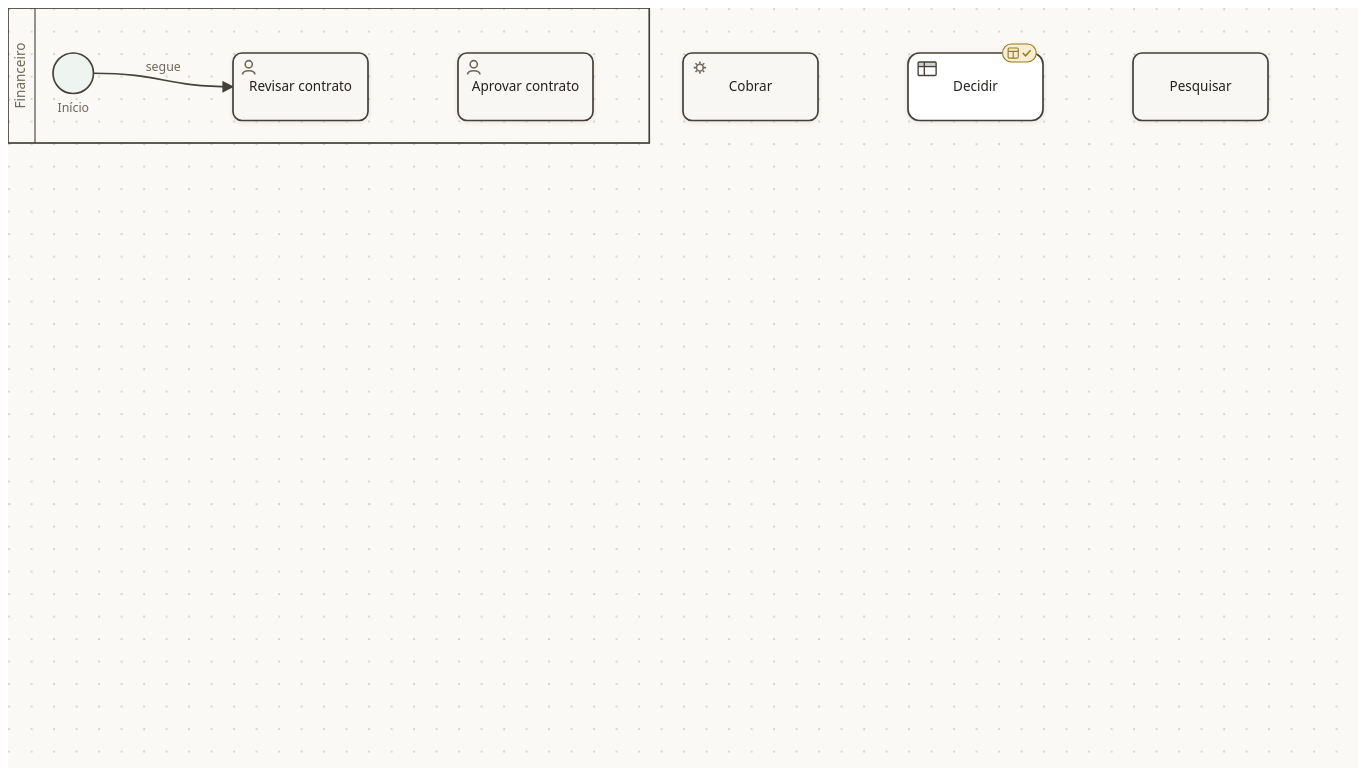
Test case: search — spec 1c refinements (U-4) › renders the result list with glyph, lane and type per row
Press f
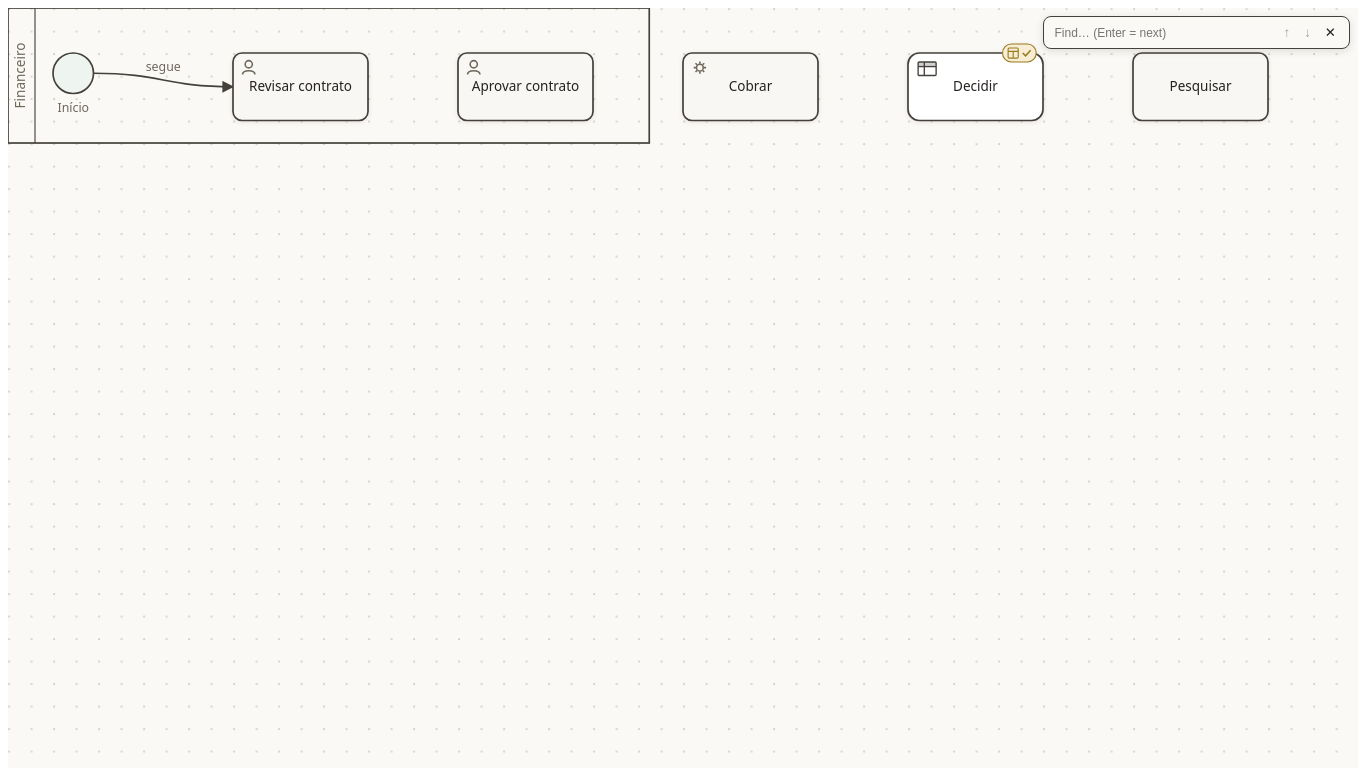
Type "cobrar" into the field with placeholder "Find… (Enter = next)". click: (1144, 32)
box: [1052, 24, 1236, 40]
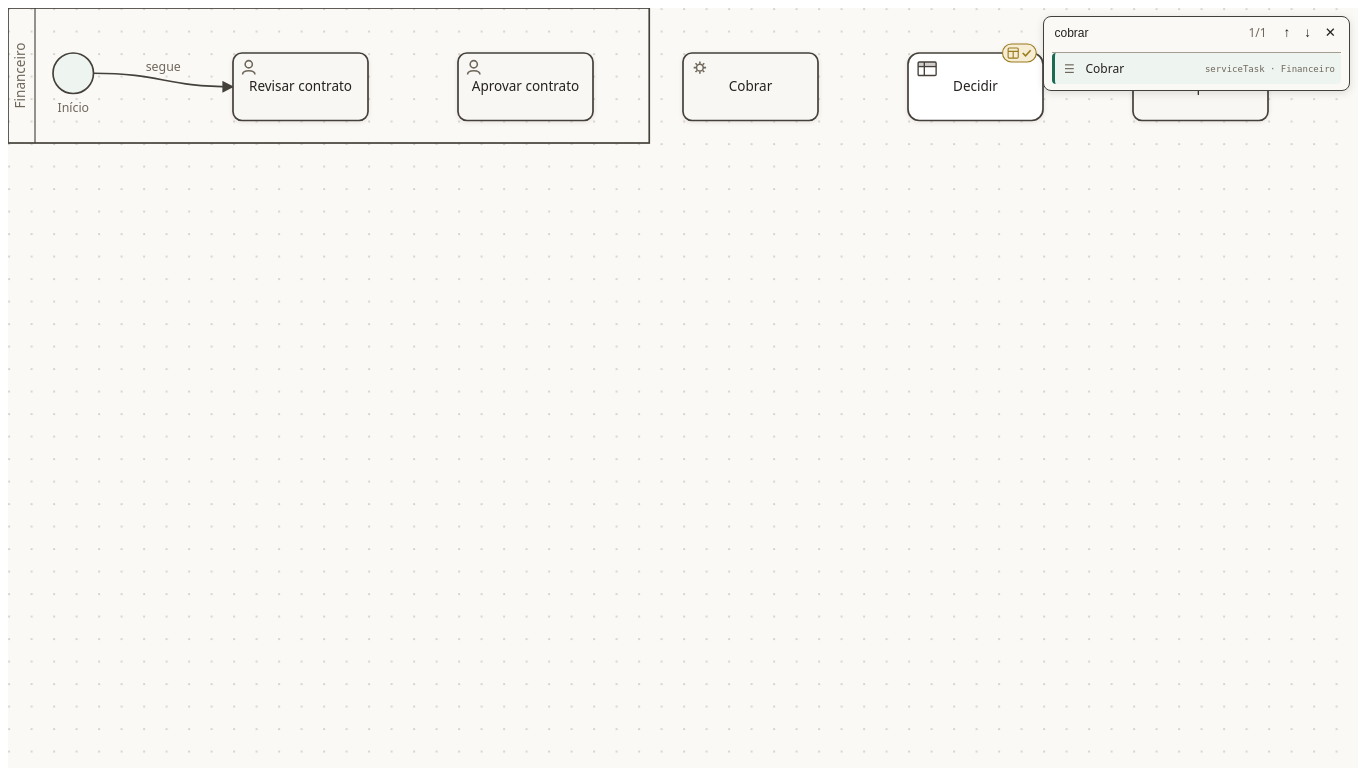
Check: the option "☰ Cobrar serviceTask · Financeiro" is shown, box [1052, 53, 1341, 84]
Check: the text with class "bpmnr-search-glyph" reads "☰", box [1064, 60, 1075, 77]
